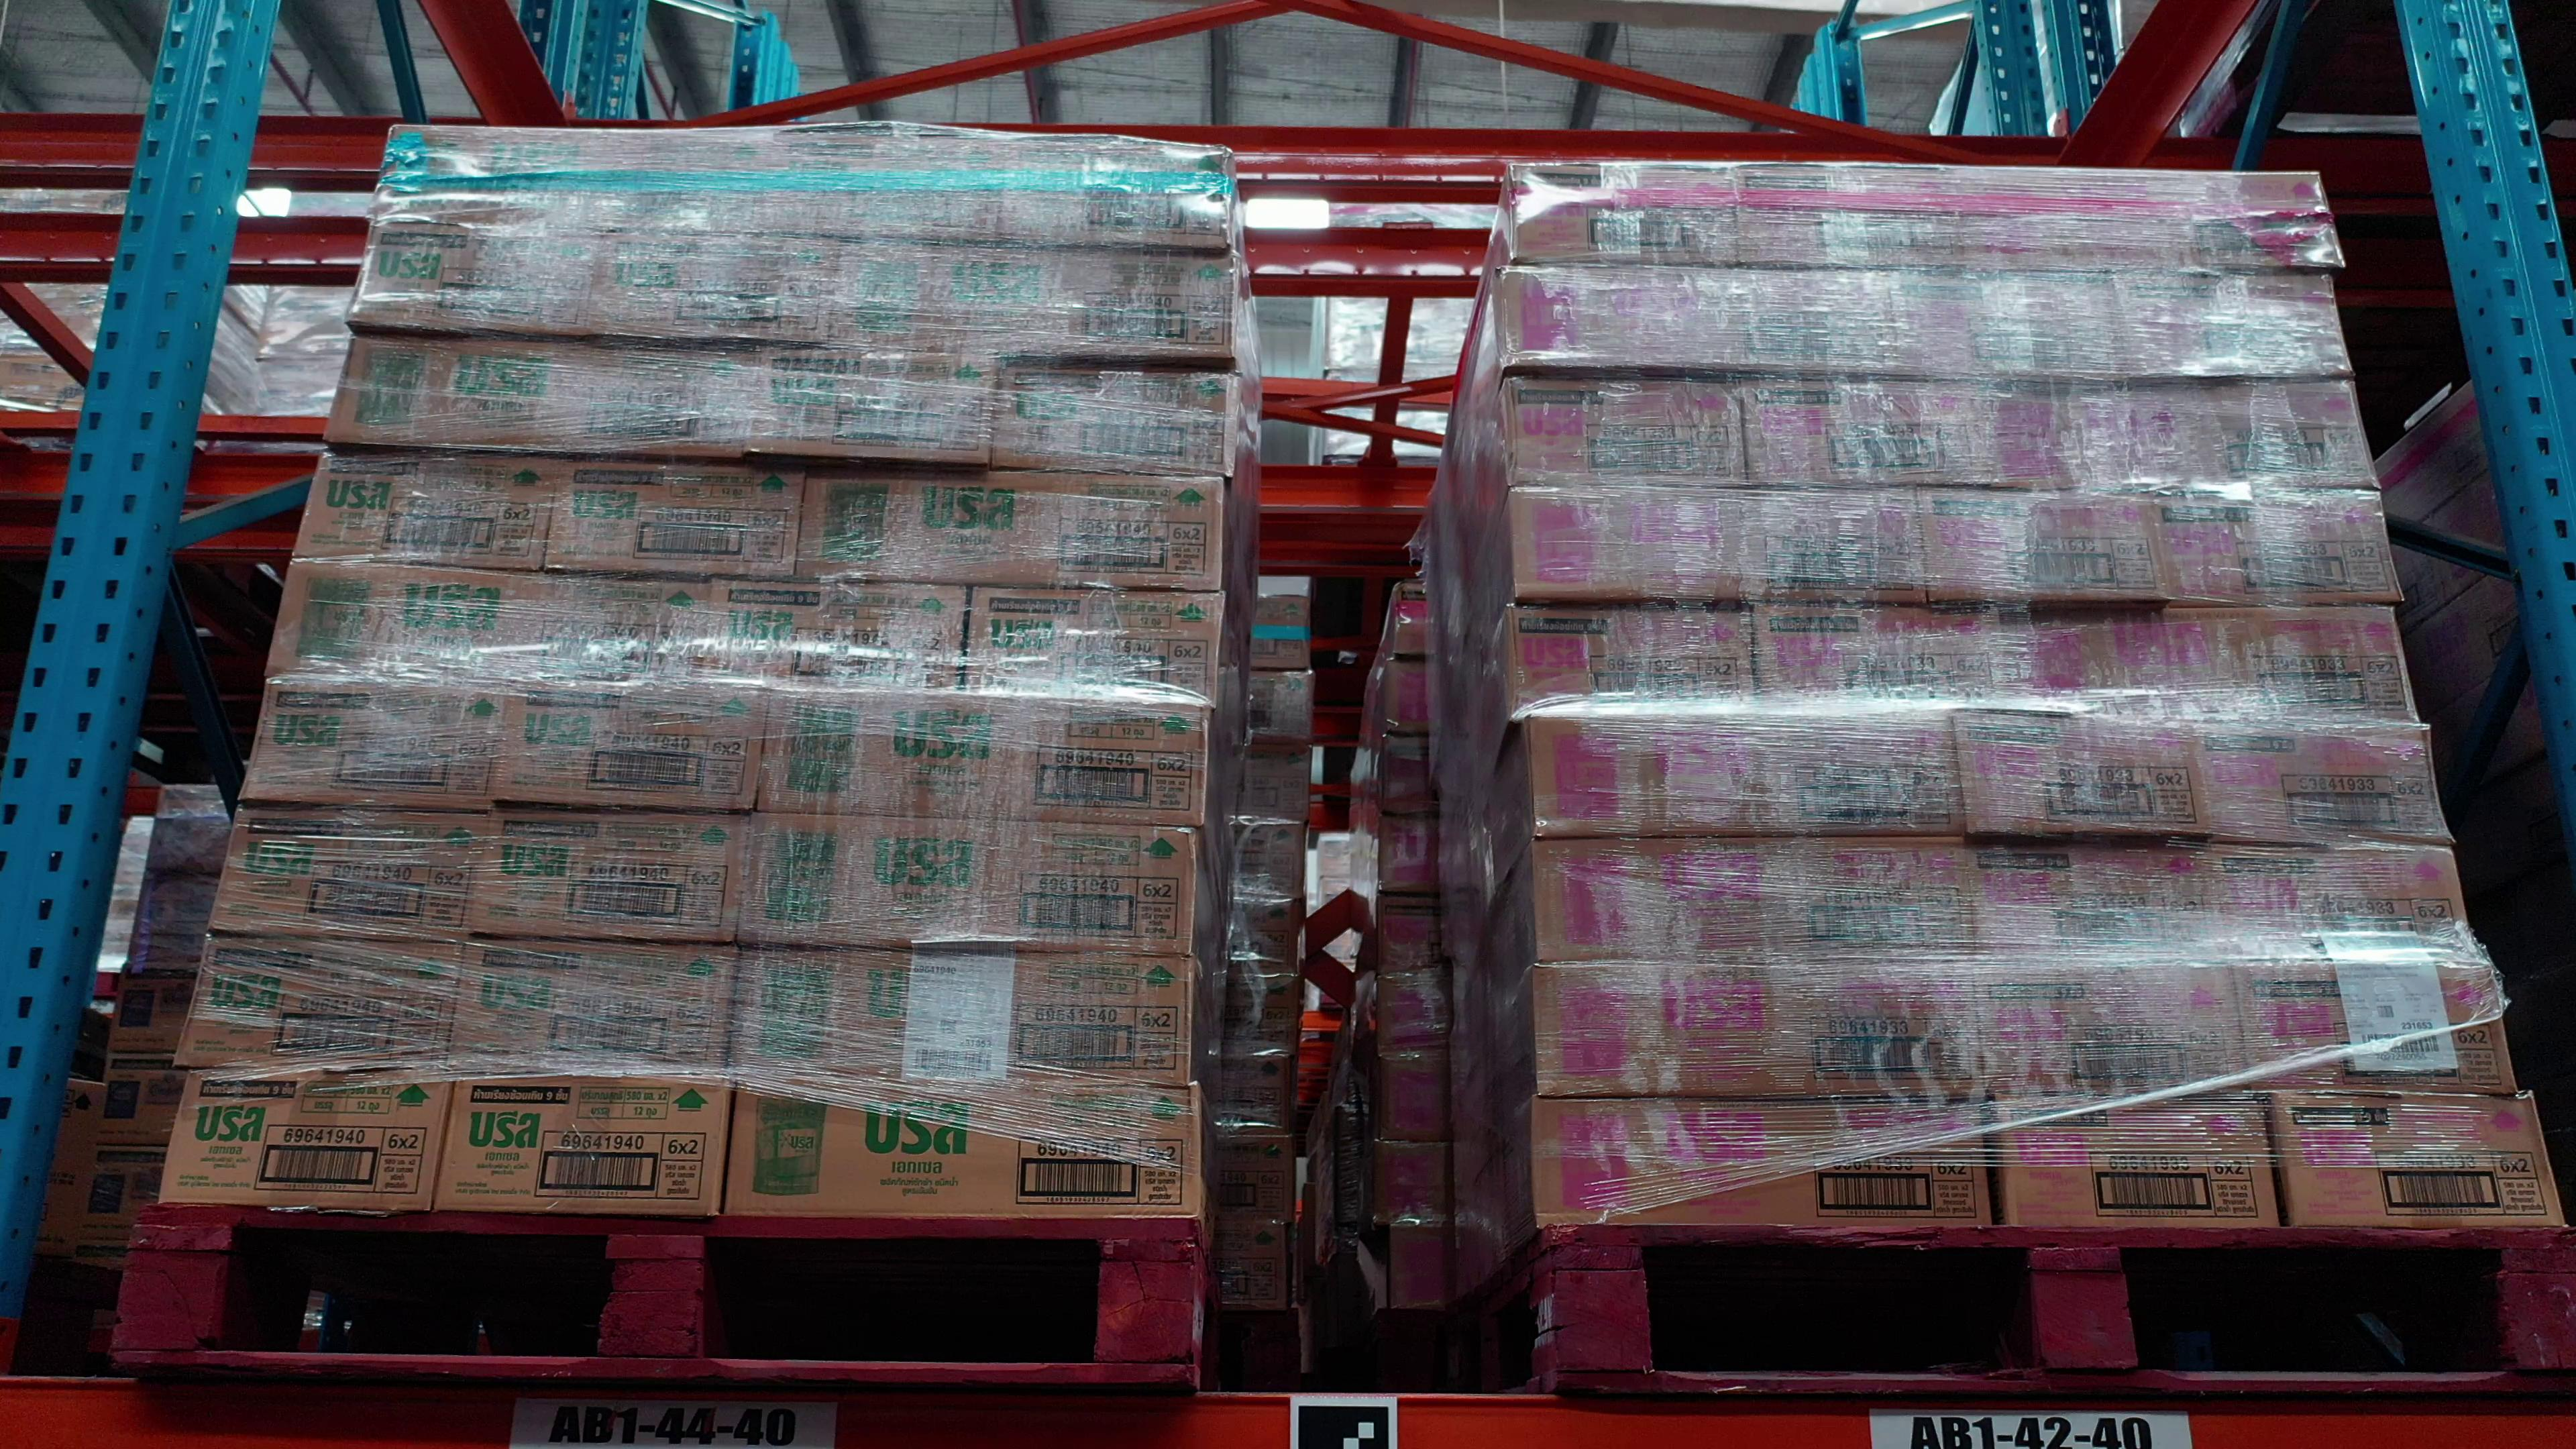-: (722, 1070, 1198, 1223), (755, 686, 1210, 832), (1532, 964, 1990, 1104), (740, 814, 1198, 952), (729, 950, 1189, 1086), (1532, 1092, 1990, 1228), (271, 557, 709, 694), (794, 460, 1226, 594), (324, 331, 757, 464), (1532, 837, 1976, 966), (1532, 713, 1966, 839), (828, 237, 1237, 364), (1509, 485, 1930, 607), (2003, 607, 2420, 727), (1500, 264, 1900, 380), (433, 1067, 734, 1221), (159, 1062, 456, 1217), (373, 126, 777, 239), (1976, 379, 2383, 490), (2273, 1092, 2569, 1230), (469, 805, 754, 947), (1951, 168, 2344, 271), (175, 932, 465, 1070), (211, 800, 490, 941), (448, 939, 740, 1074), (1976, 961, 2249, 1104), (241, 672, 511, 814), (2235, 959, 2519, 1093), (494, 679, 768, 812), (1999, 1099, 2281, 1228), (2212, 837, 2477, 966), (294, 446, 559, 573), (540, 451, 805, 579), (2189, 718, 2452, 846), (1964, 837, 2227, 964), (695, 575, 968, 695), (1955, 711, 2212, 837), (350, 214, 602, 341), (747, 345, 994, 469), (964, 586, 1223, 704), (2150, 485, 2406, 603), (991, 356, 1238, 476), (1916, 481, 2164, 602), (1753, 600, 2013, 713), (768, 126, 1008, 248), (1511, 602, 1760, 718), (1507, 372, 1748, 490), (587, 230, 840, 341), (1746, 370, 1985, 485), (1888, 265, 2125, 380), (998, 133, 1231, 248), (1511, 156, 1739, 269), (2112, 269, 2350, 375), (1729, 166, 1964, 271)
